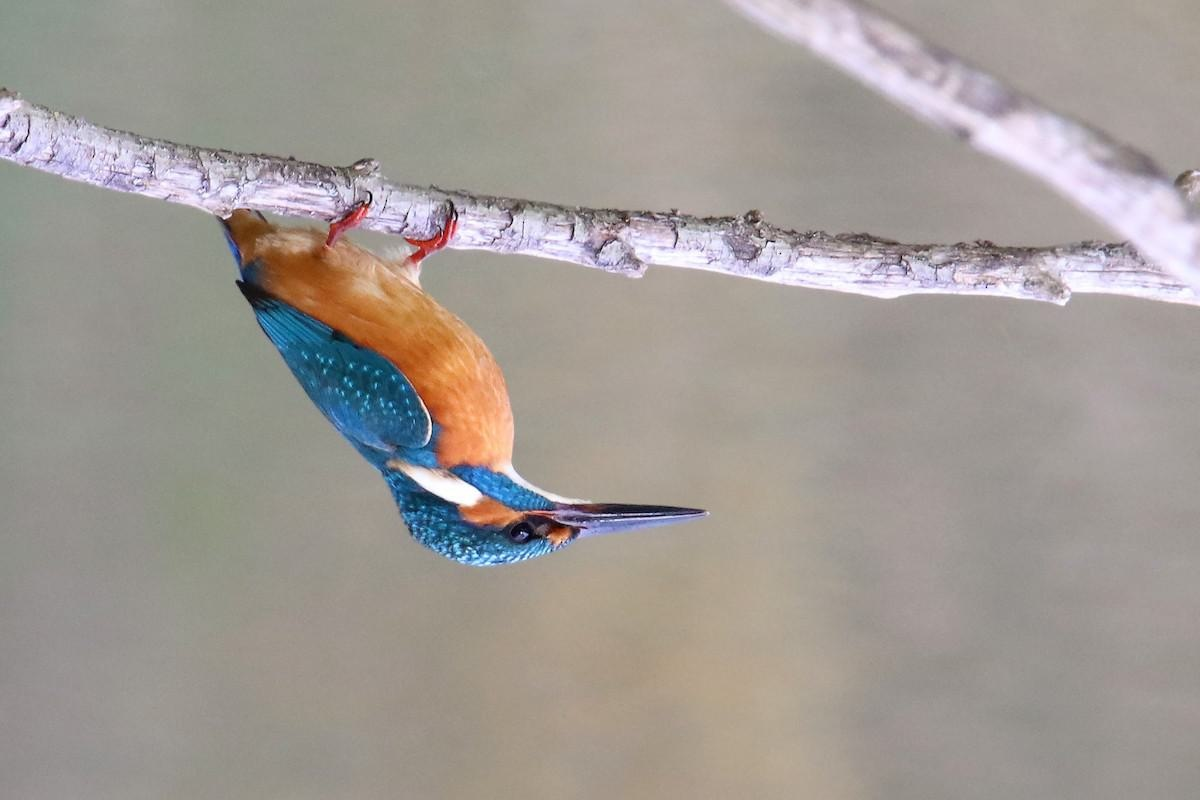kingfisher: (221, 195, 712, 587)
